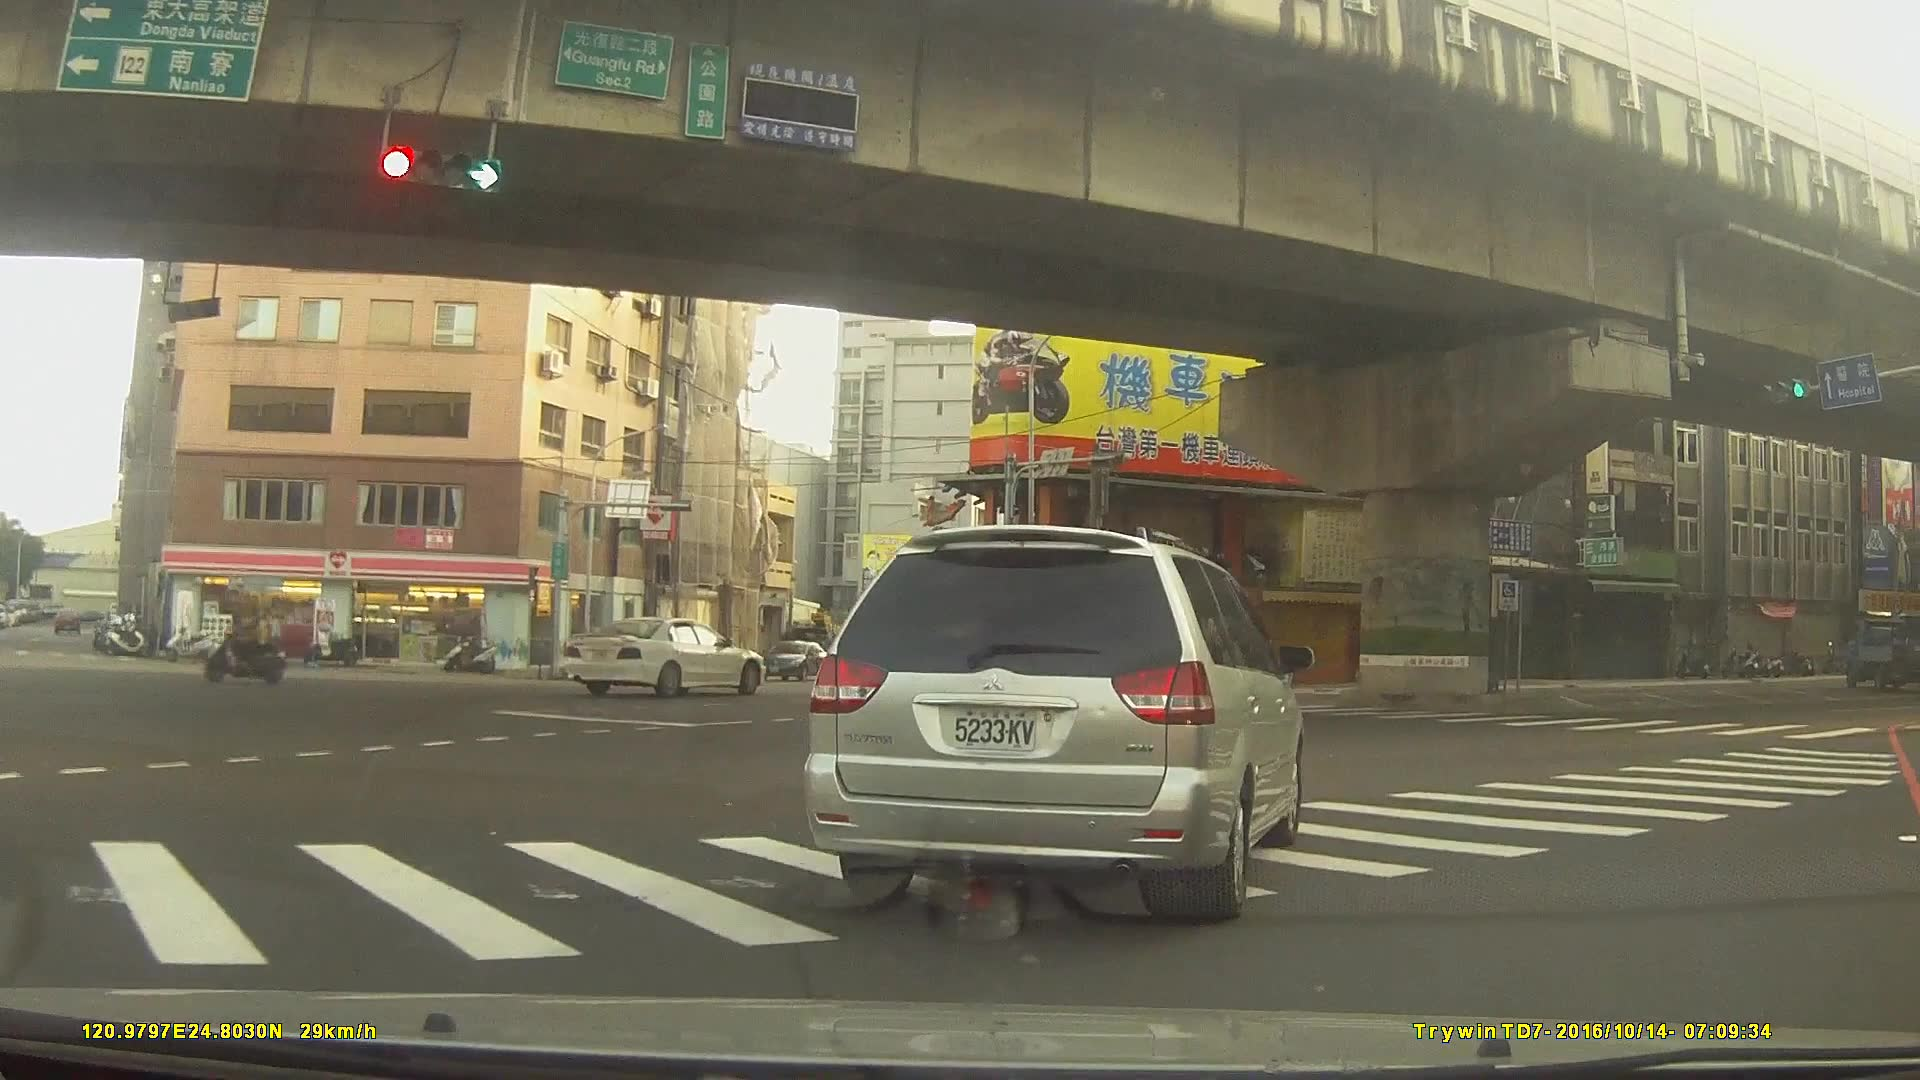rider: (204, 597, 283, 684)
vehicle: (800, 524, 1304, 931), (560, 614, 766, 700), (1837, 618, 1920, 690), (761, 638, 835, 680), (52, 606, 83, 632)
